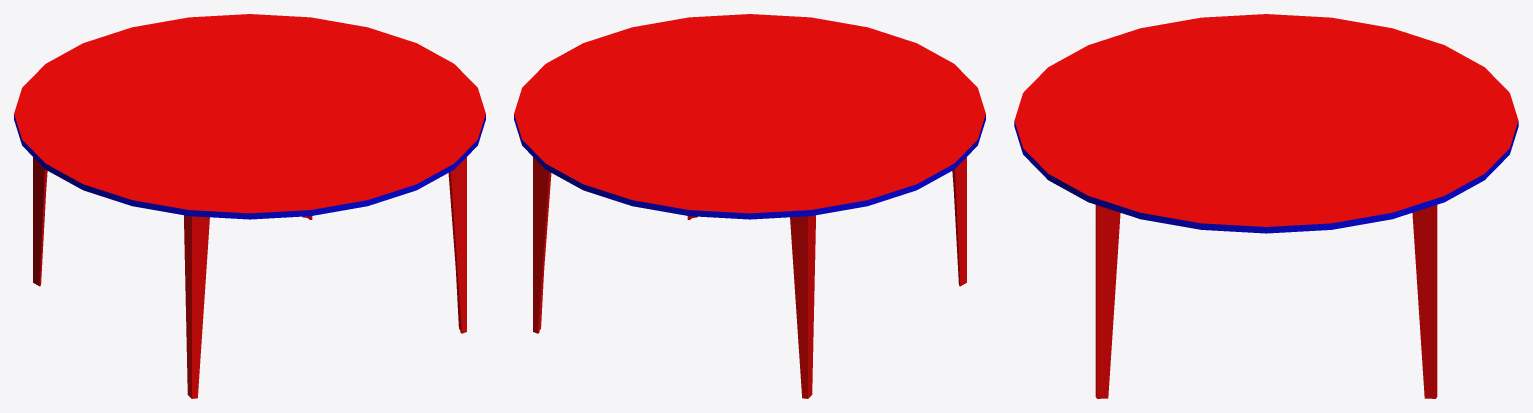
File: BigRoundTable.fbx
The picture shows the model from 3 angles, left to right: view 1: azimuth 30°, elevation 25°; view 2: azimuth 150°, elevation 25°; view 3: azimuth 270°, elevation 25°; orthographic projection. The views are drawn at different scales.
Visible parts, largest first — view 1: Cylinder.001; view 2: Cylinder.001; view 3: Cylinder.001.
Part boxes in pixels (bbox=[...]): Cylinder.001: bbox=[14, 14, 485, 398]; Cylinder.001: bbox=[514, 14, 985, 398]; Cylinder.001: bbox=[1014, 14, 1518, 398].
Size of the model in its own units: 176 by 176 by 79.74.
